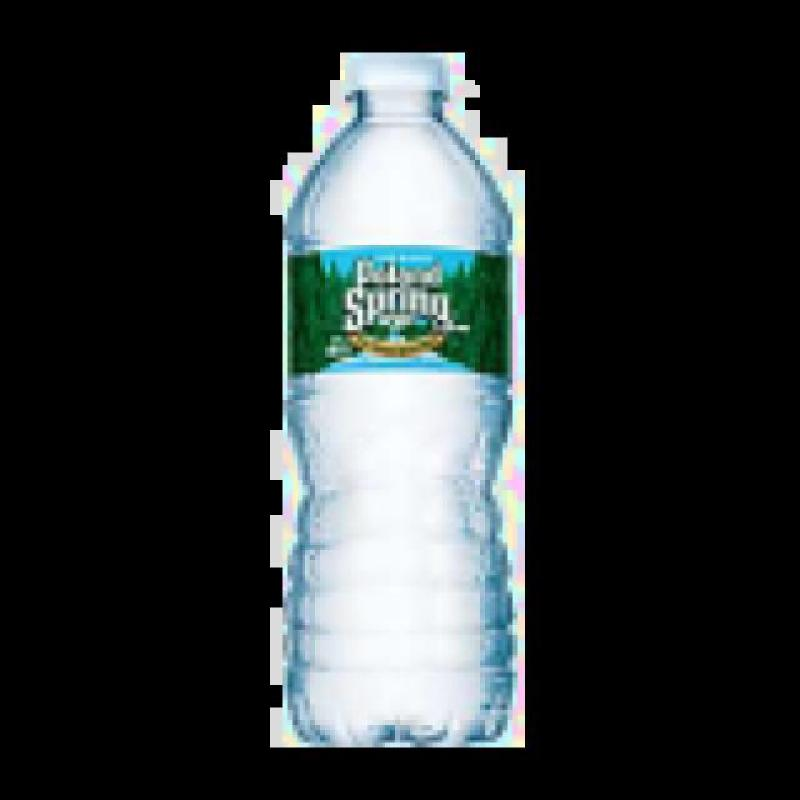botella: (264, 53, 528, 745)
